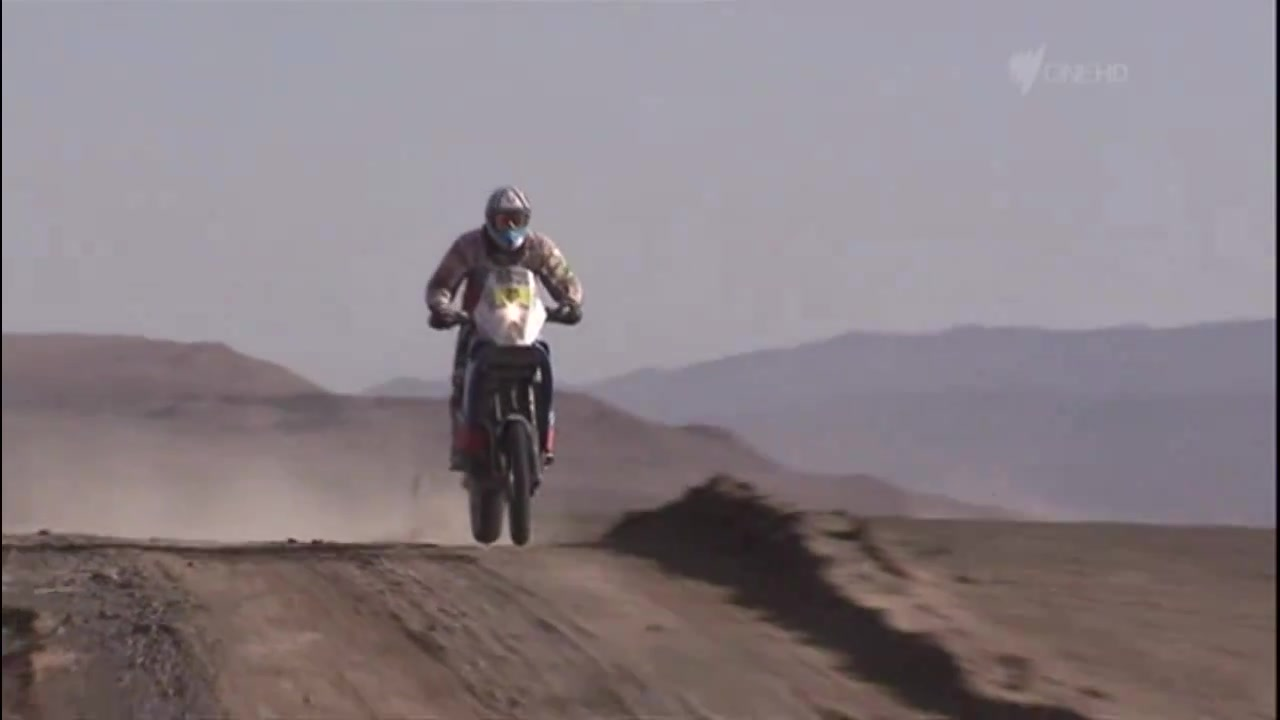motorbike: (429, 261, 582, 555)
